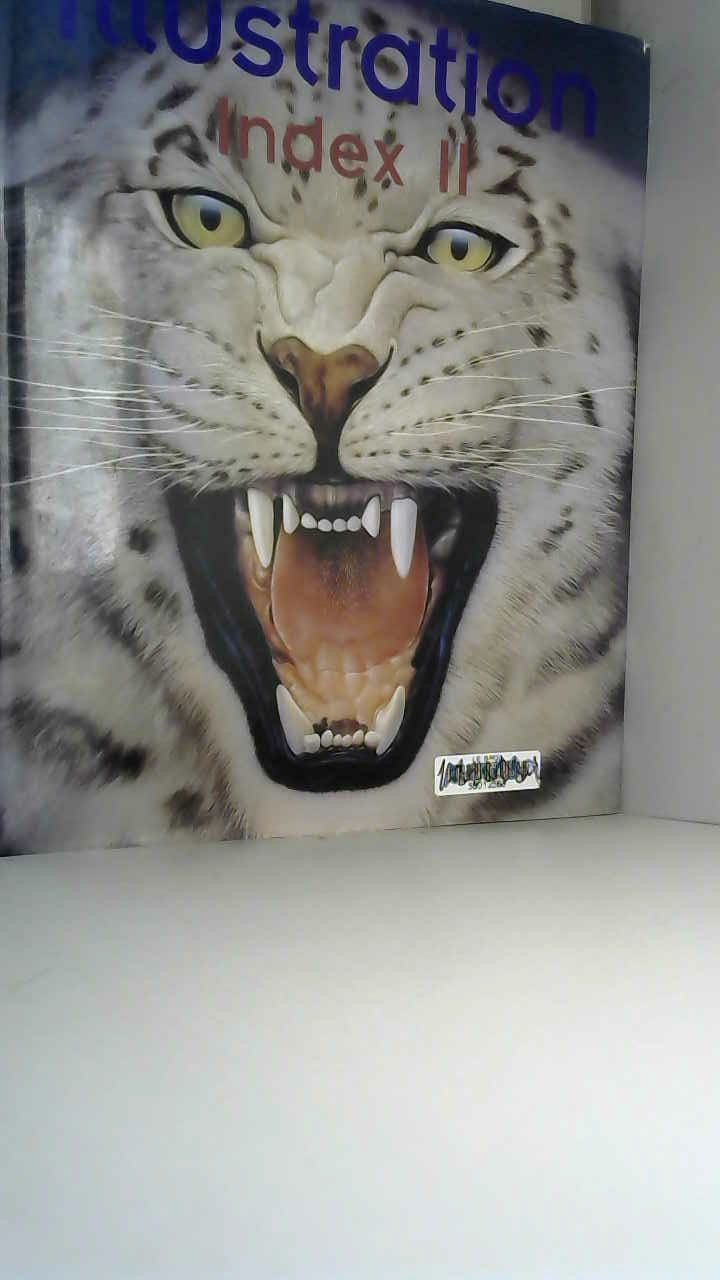book: (0, 0, 679, 887)
